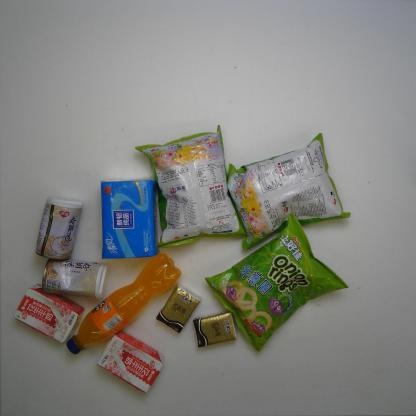Canned Food: (35, 194, 84, 260), (42, 258, 108, 300)
Drink: (66, 253, 181, 355)
Milk: (13, 282, 85, 344), (96, 330, 165, 394)
Puffed Food: (204, 212, 349, 353), (227, 132, 351, 250), (134, 124, 248, 249)
Tissue: (100, 176, 160, 260), (156, 284, 202, 334), (193, 311, 238, 348)
